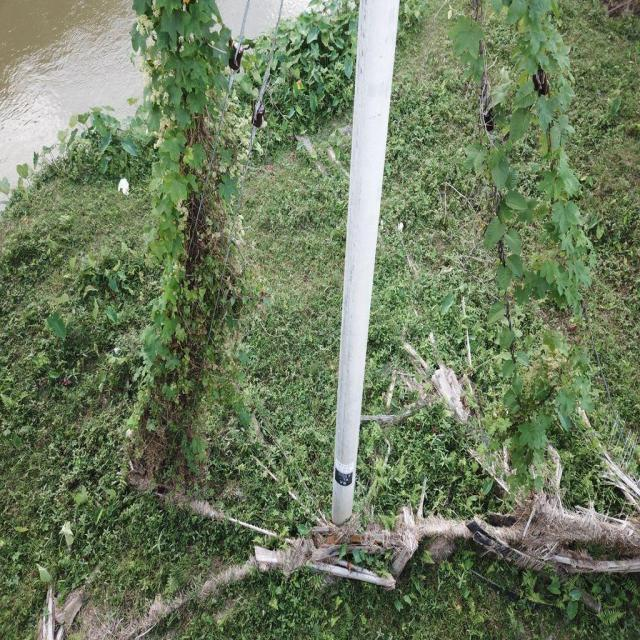light_pole: (481, 19, 594, 459), (143, 19, 225, 458)
